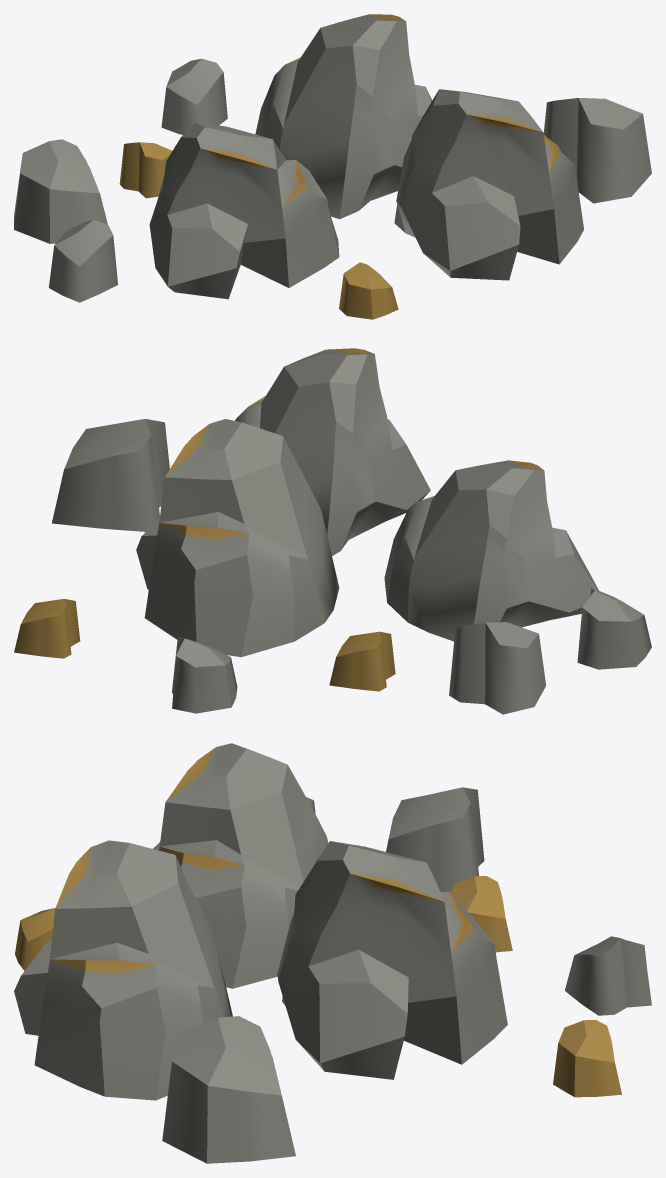
File: quaternius-ultimate-fantasy-rts-resource-gold-3.glb
The picture shows the model from 3 angles, top to bottom: view 1: azimuth 30°, elevation 25°; view 2: azimuth 150°, elevation 25°; view 3: azimuth 270°, elevation 25°; orthographic projection. The views are drawn at different scales.
Parts seen in each view (by area): view 1: Resource_Gold_3; view 2: Resource_Gold_3; view 3: Resource_Gold_3.
Boxes of the visible parts, x1,y1,x2,y2 form: Resource_Gold_3: (14, 14, 651, 319); Resource_Gold_3: (14, 348, 651, 714); Resource_Gold_3: (14, 743, 651, 1163).
Size of the model in its own units: 0.5907 by 0.1634 by 0.4837.
